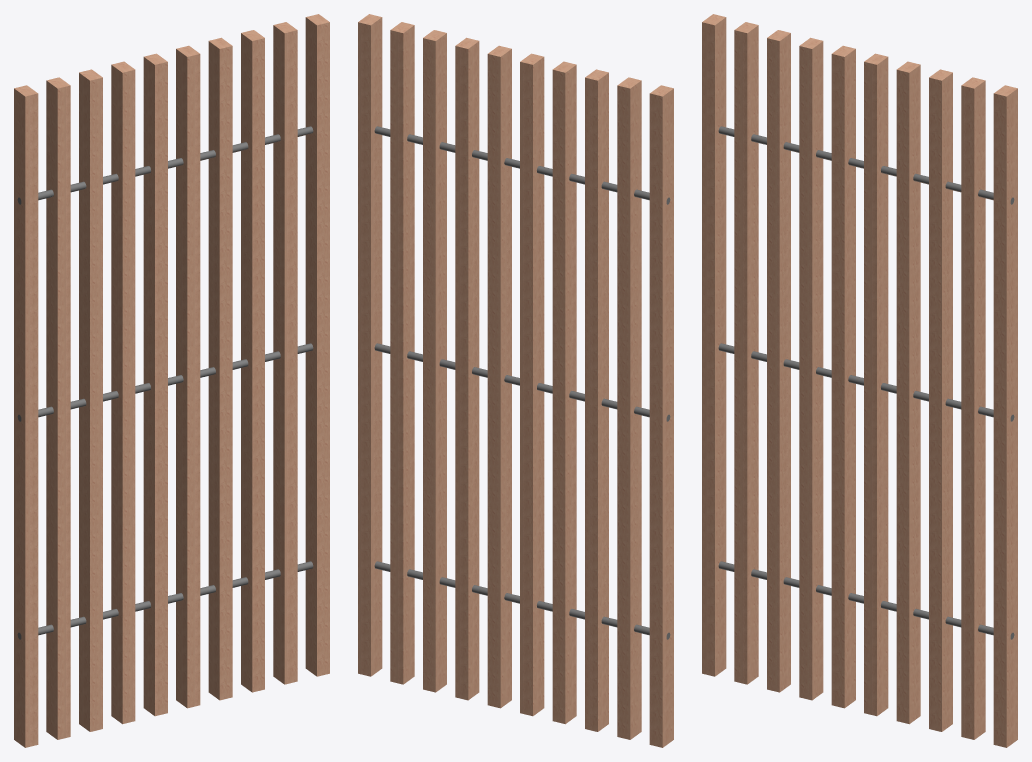
File: RealGrille.glb
3 renders of one model, left to right at view 1: azimuth 30°, elevation 25°; view 2: azimuth 150°, elevation 25°; view 3: azimuth 330°, elevation 25°, orthographic.
Visible parts, largest first — view 1: RealGrille v1; view 2: RealGrille v1; view 3: RealGrille v1.
Boxes of the visible parts, bbox=[...] form: RealGrille v1: bbox=[14, 14, 329, 747]; RealGrille v1: bbox=[358, 14, 673, 747]; RealGrille v1: bbox=[702, 14, 1017, 747].
Bounding box in the file's own units: 23.5 × 48 × 1.5.
Materials: 2 (1 with a texture image).
